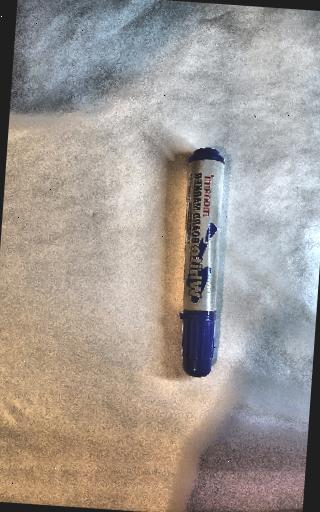marcador azul: (180, 147, 224, 377)
